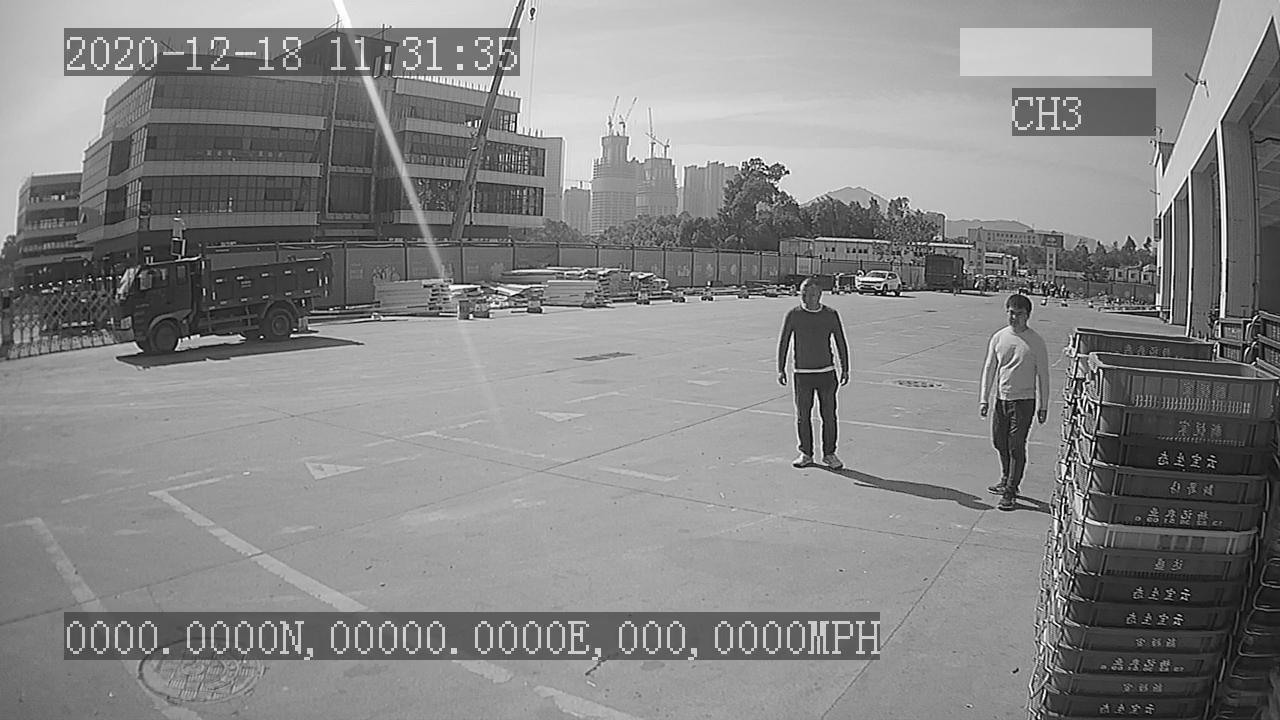person: (980, 286, 1051, 510), (772, 272, 851, 473)
